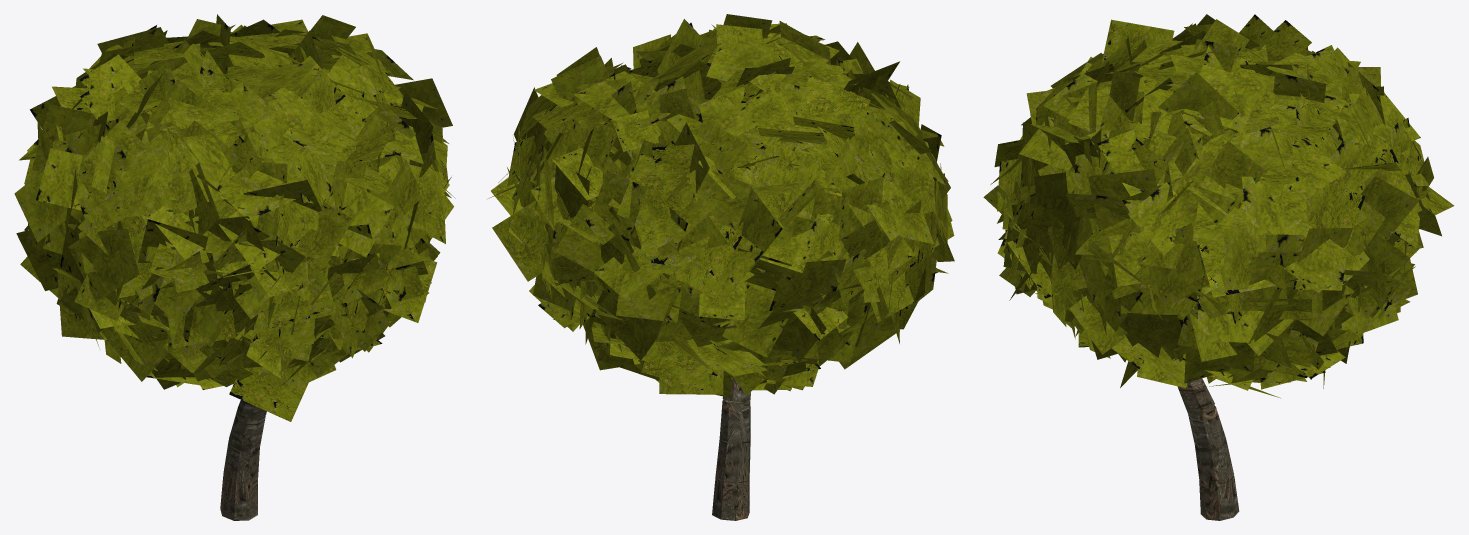
The model's file is tree_broadleaf_01.fbx.
3 views of the same model, side by side, from view 1: azimuth 30°, elevation 25°; view 2: azimuth 150°, elevation 25°; view 3: azimuth 270°, elevation 25° (orthographic).
Visible parts, largest first — view 1: tree_broadleaf_01_LOD0; view 2: tree_broadleaf_01_LOD0; view 3: tree_broadleaf_01_LOD0.
Part boxes in pixels (box(x1,y1,x2,y2)): tree_broadleaf_01_LOD0: box(14, 14, 455, 520); tree_broadleaf_01_LOD0: box(488, 14, 954, 520); tree_broadleaf_01_LOD0: box(983, 14, 1454, 520).
Size of what is drawn, in the model's own units: 12.07 by 13.04 by 11.84.
